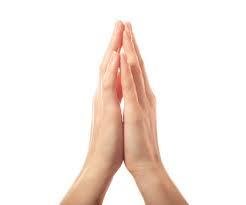Praying-Hands: (84, 16, 161, 174)
